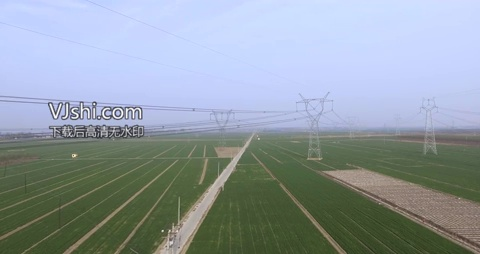tower_body: (292, 91, 337, 164)
tower_foot: (305, 138, 327, 160)
tower_head: (293, 94, 335, 124)
